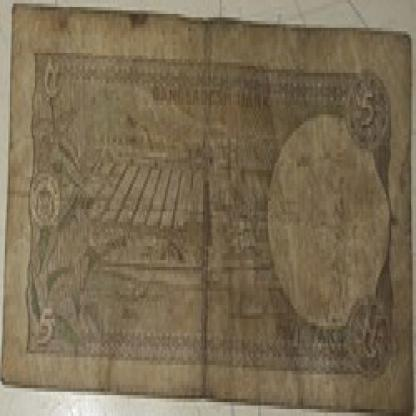Five Taka: (352, 305, 388, 378), (37, 48, 65, 125), (356, 66, 379, 142), (35, 295, 58, 357)
